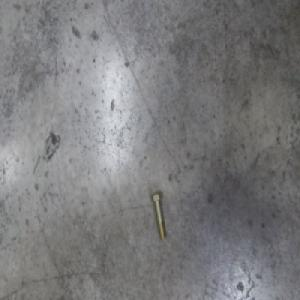Bolt: (150, 189, 167, 240)
